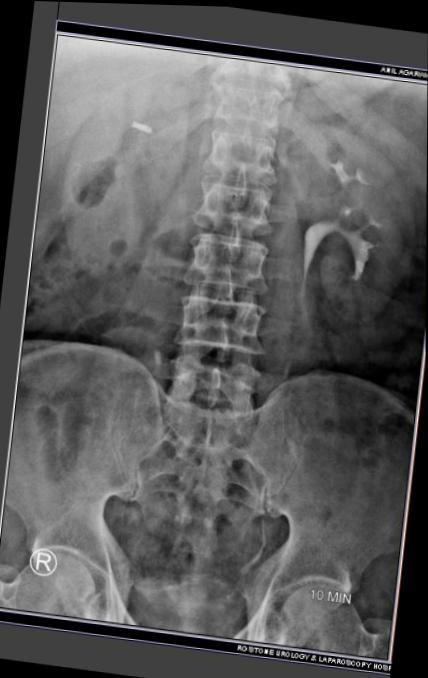left kidney: (263, 81, 427, 330)
right kidney: (29, 23, 188, 282)
vertebrae: (190, 93, 277, 165)
